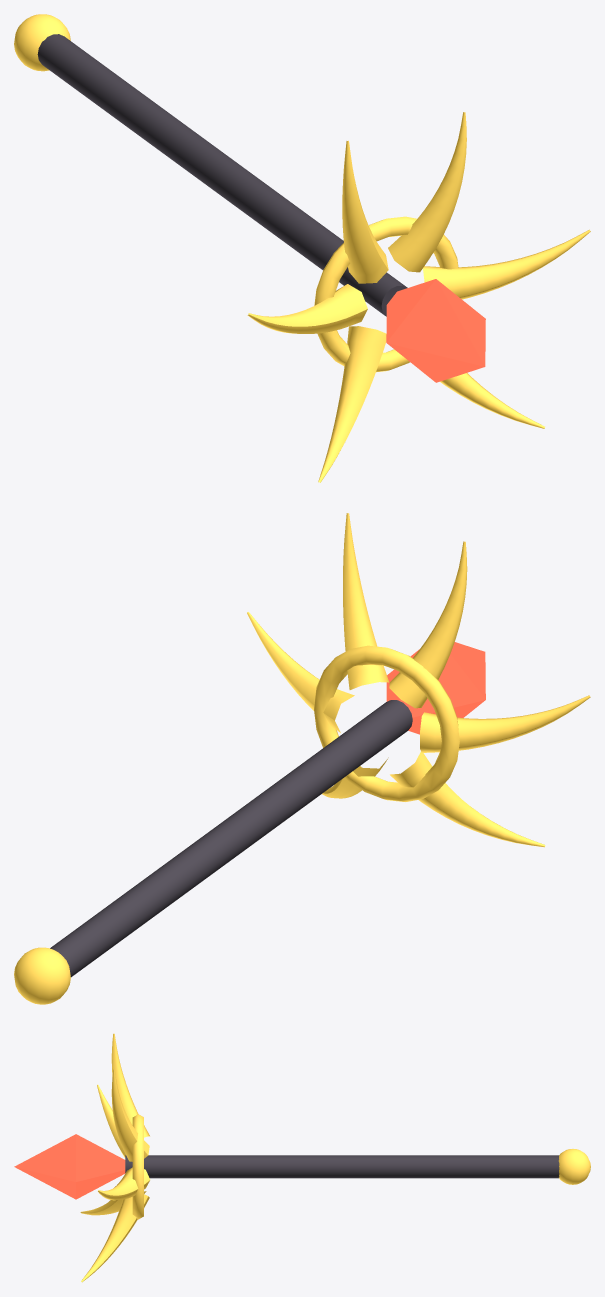
The model's file is cetro_dl.glb.
3 views of the same model, one above another, from view 1: azimuth 30°, elevation 25°; view 2: azimuth 150°, elevation 25°; view 3: azimuth 270°, elevation 25° (orthographic). The views are drawn at different scales.
Parts seen in each view (by area): view 1: Cetro_DL; view 2: Cetro_DL; view 3: Cetro_DL.
Part boxes in pixels (x1=…): Cetro_DL: x1=14, y1=14, x2=590, y2=482; Cetro_DL: x1=14, y1=513, x2=590, y2=1004; Cetro_DL: x1=14, y1=1033, x2=590, y2=1282.
Size of the model in its own units: 0.484 by 0.419 by 1.11.
